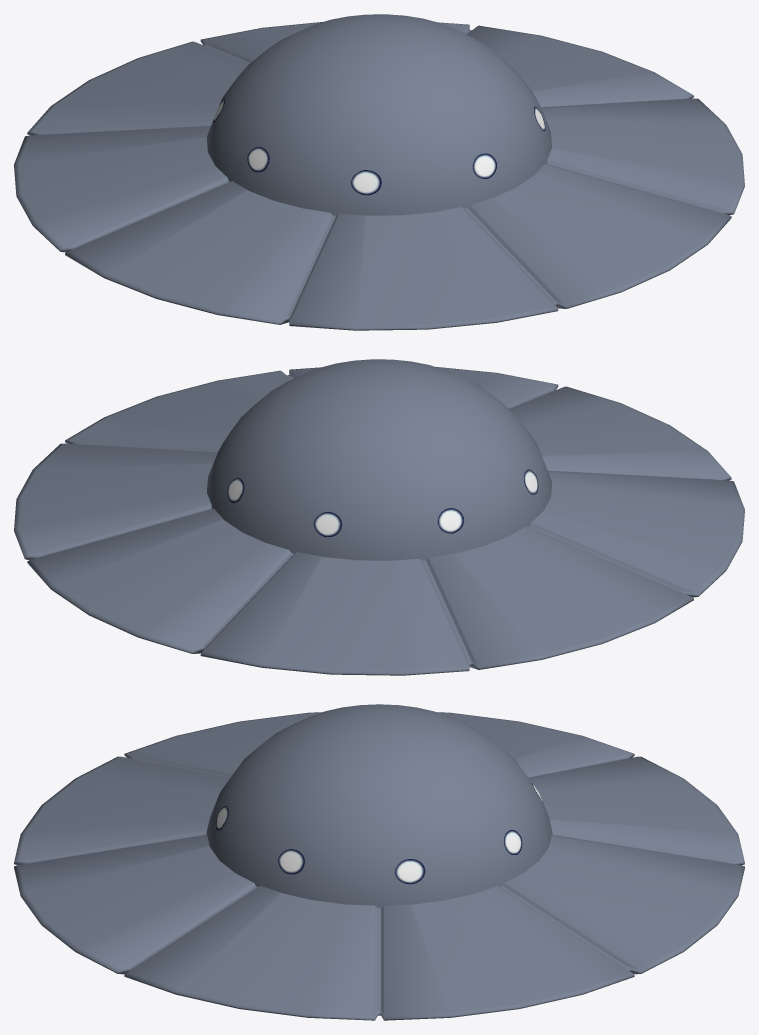
File: ufo.glb
3 renders of one model, top to bottom at view 1: azimuth 30°, elevation 25°; view 2: azimuth 150°, elevation 25°; view 3: azimuth 270°, elevation 25°, orthographic.
Parts seen in each view (by area): view 1: Cylinder_2, Sphere_3; view 2: Cylinder_2, Sphere_3; view 3: Cylinder_2, Sphere_3.
Part boxes in pixels (x1,y1,x2,y2): Cylinder_2: (14, 22, 744, 330); Sphere_3: (207, 14, 551, 215); Cylinder_2: (14, 367, 744, 675); Sphere_3: (207, 359, 551, 560); Cylinder_2: (14, 712, 744, 1020); Sphere_3: (206, 704, 552, 908).
Bounding box in the file's own units: 11.86 × 4 × 11.86.
Materials: 4 (4 with a texture image).
